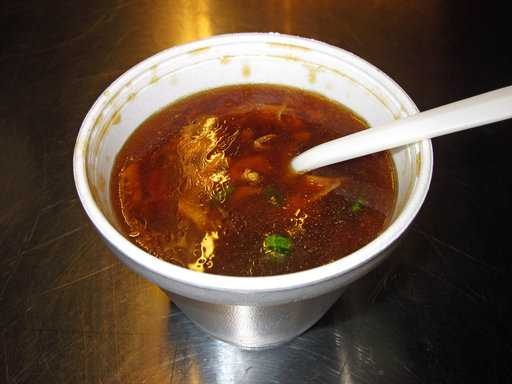soup: (93, 52, 405, 289)
